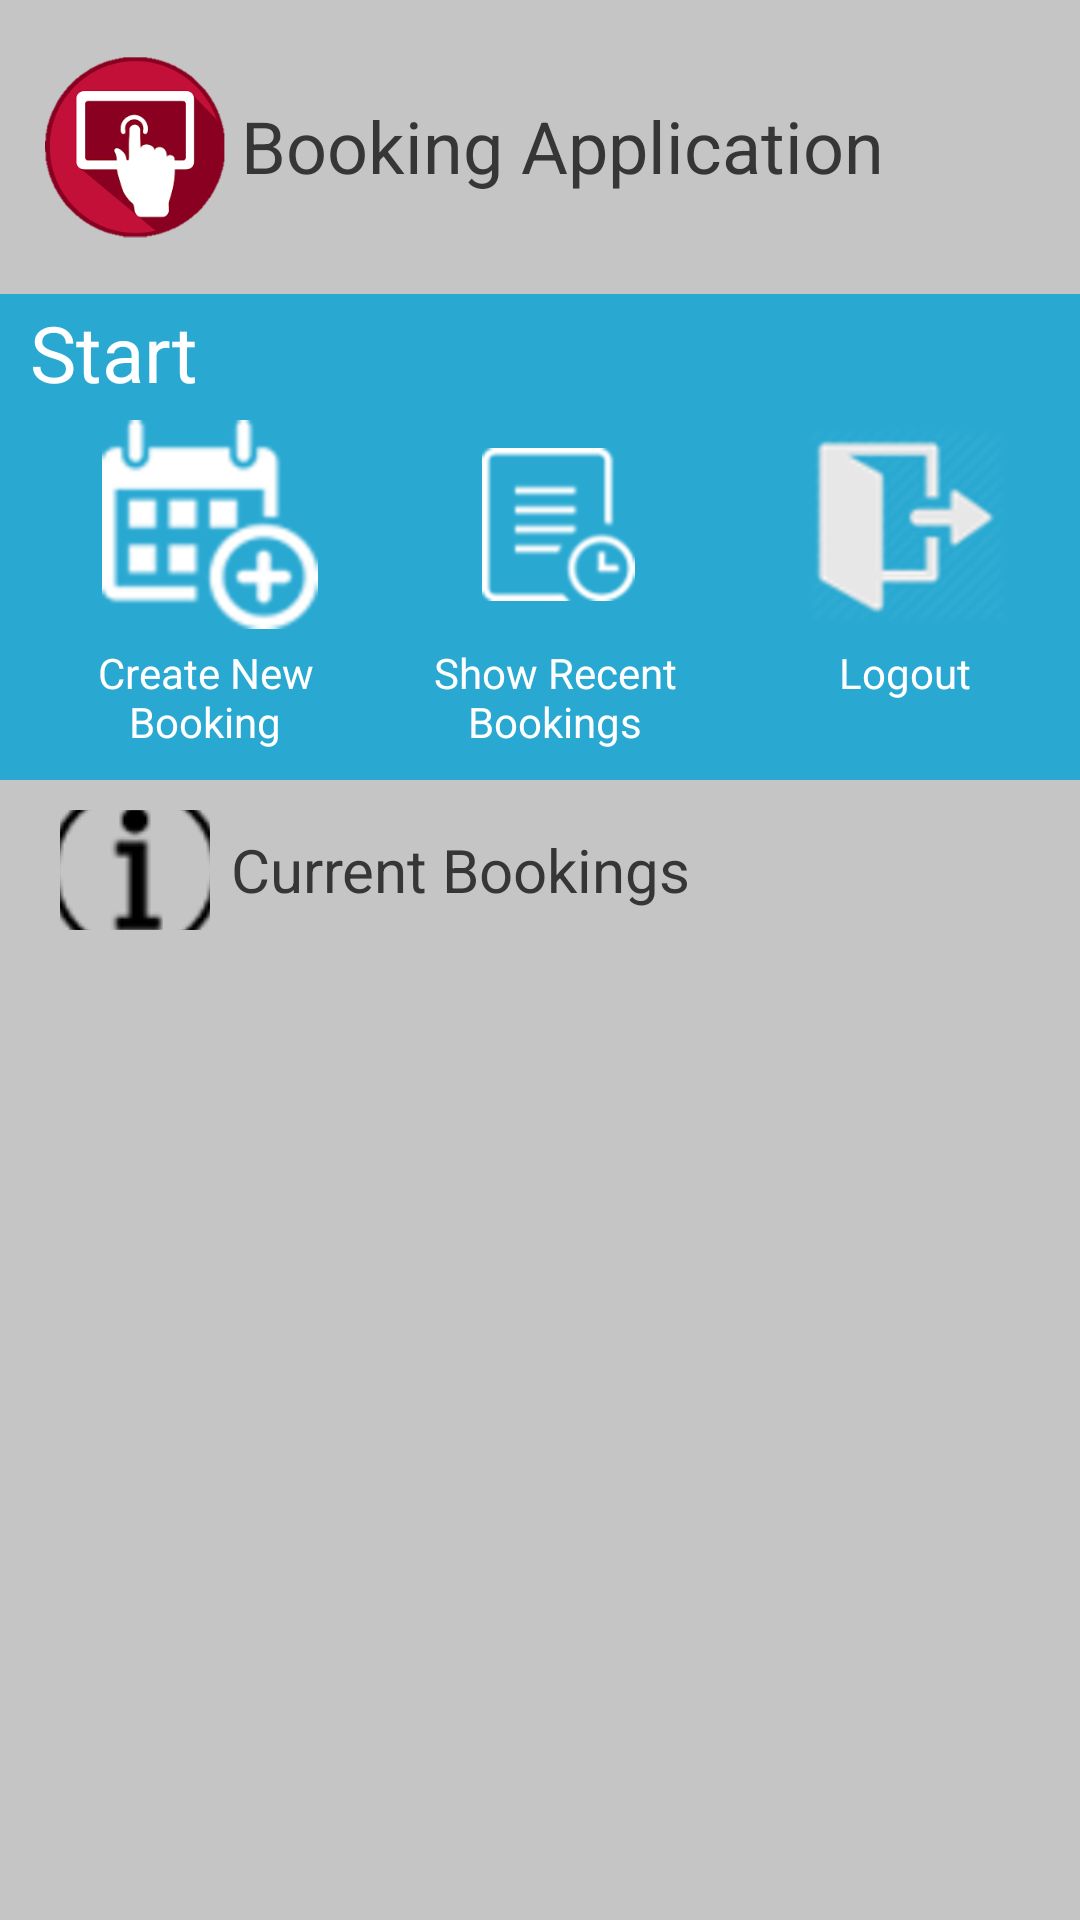

Icon bounding boxes for this 1080×1920 phone screenshot, format (x1, y1, x2, y2):
history: (482, 448, 635, 601)
info: (60, 810, 210, 930)
